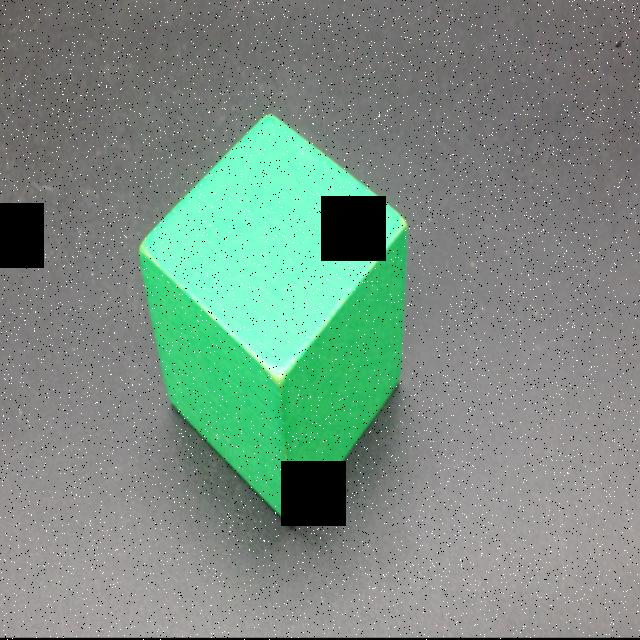green cube: (134, 109, 413, 531)
